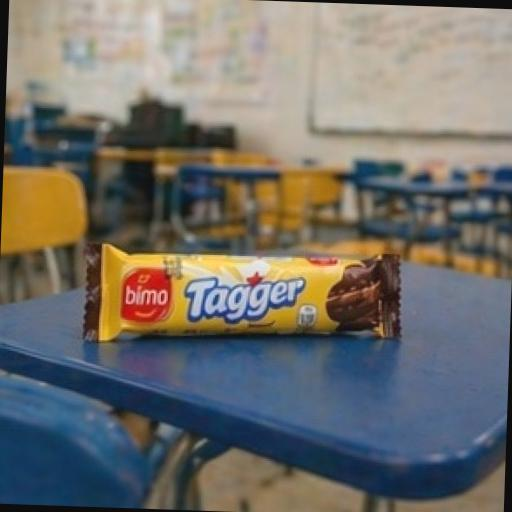tagger: (44, 161, 456, 422)
